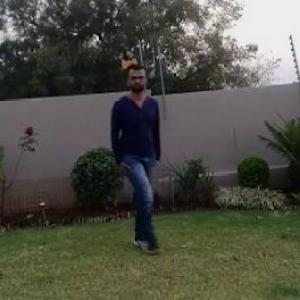follow: (102, 65, 165, 245)
